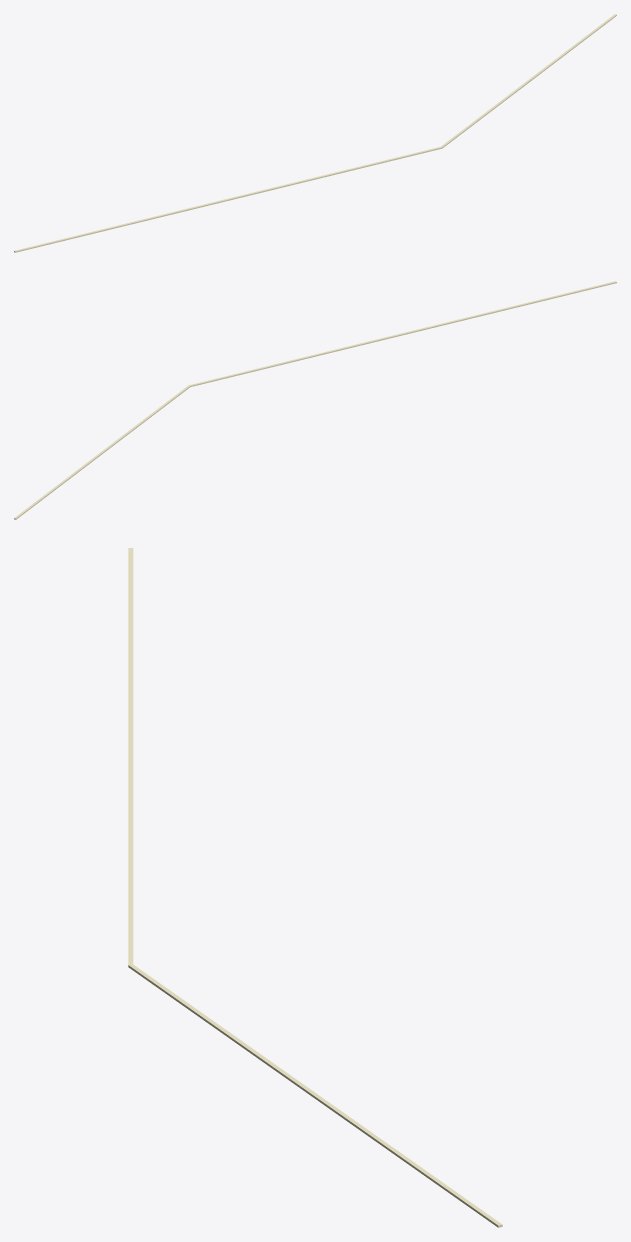
3 views of the same model, one above another, from view 1: azimuth 30°, elevation 25°; view 2: azimuth 210°, elevation 25°; view 3: azimuth 270°, elevation 25° (orthographic). The views are drawn at different scales.
Visible parts, largest first — view 1: lighting.led_strip; view 2: lighting.led_strip; view 3: lighting.led_strip.
Boxes of the visible parts, x1,y1,x2,y2 form: lighting.led_strip: (14,14,616,252); lighting.led_strip: (14,281,616,519); lighting.led_strip: (128,548,502,1227).
Size of the model in its own units: 6.51 by 1.52 by 0.01.
